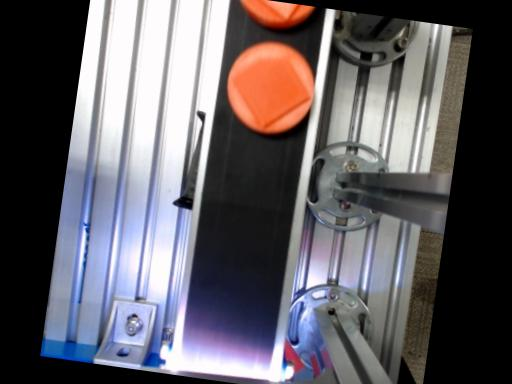Orange_Waper: (227, 42, 312, 133), (240, 0, 313, 27)
